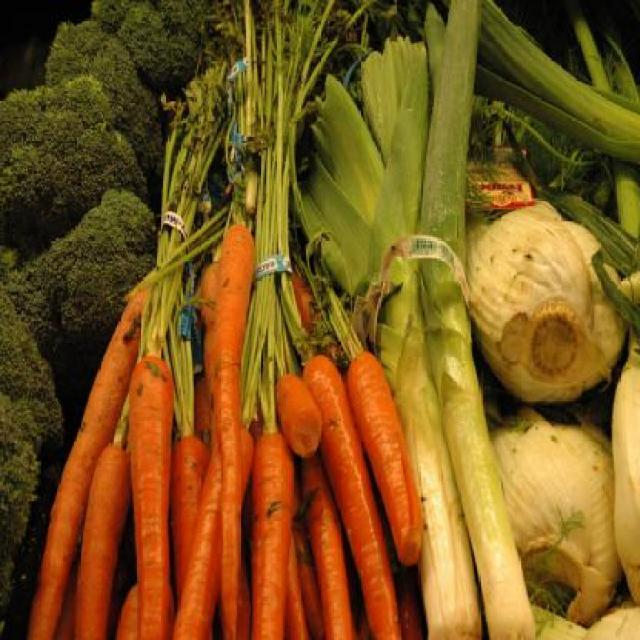Carrot: (24, 222, 418, 638), (308, 253, 423, 567)
